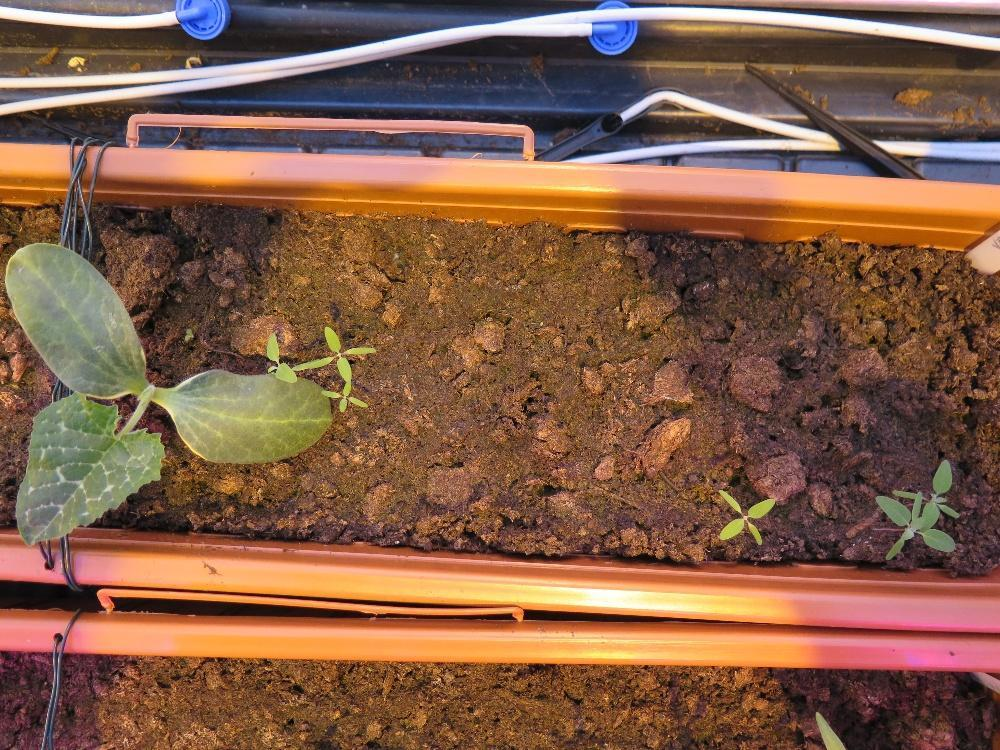weed: (716, 486, 775, 545)
